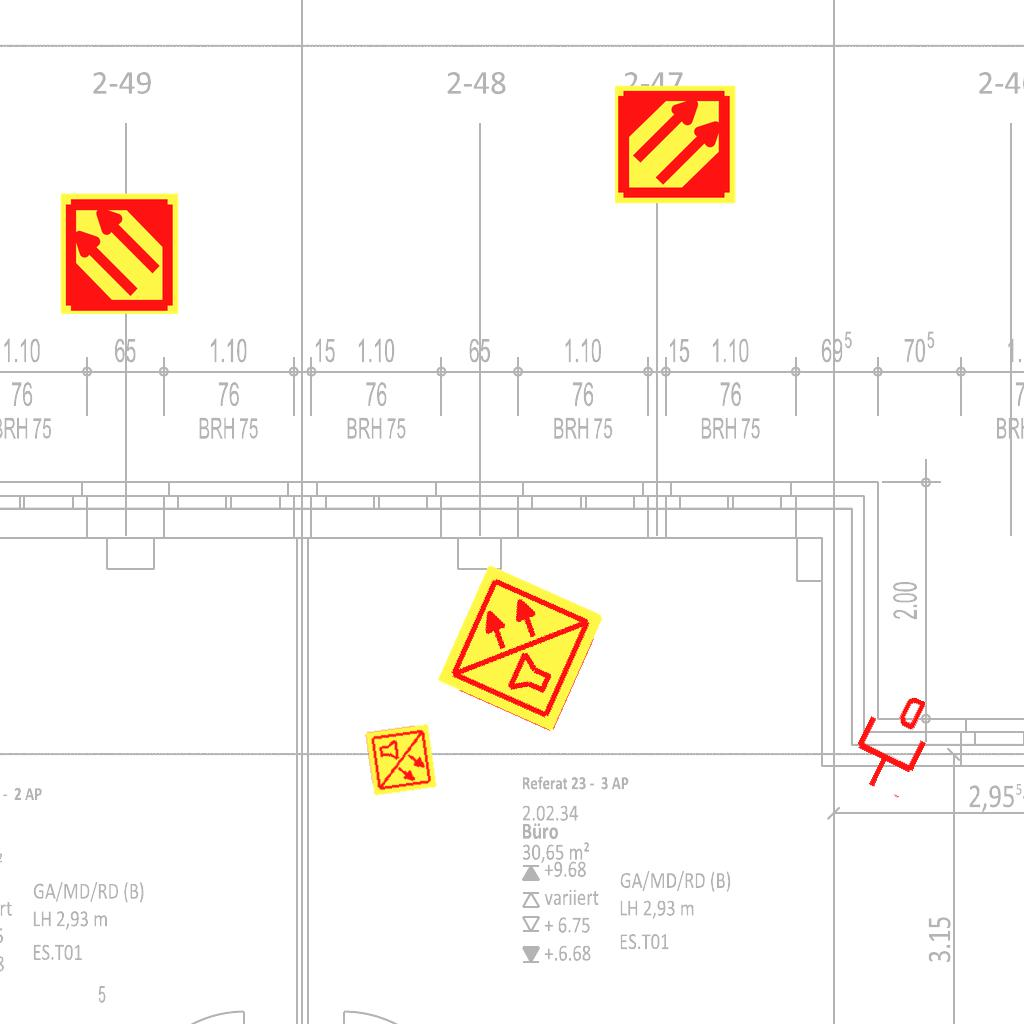ASR_Ansaugrauchmelder: (57, 191, 182, 316), (613, 82, 738, 207)
Datenanschluss_einfach: (839, 681, 946, 803)
OKW_Multisensormelder_(Kombination_optischer_Rauch-Kahlenmonoxid_Waerme-Melder): (433, 560, 609, 736), (363, 722, 439, 798)
